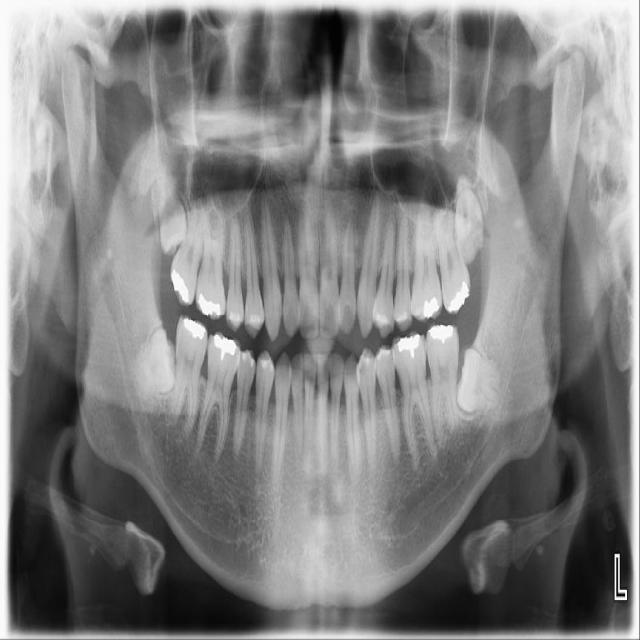3M ESPE Implant: (155, 170, 189, 260)
52: (386, 328, 435, 384), (198, 329, 247, 383), (169, 315, 213, 369), (439, 258, 473, 317), (167, 246, 200, 306), (425, 322, 460, 373), (409, 272, 443, 323), (195, 271, 226, 322), (372, 294, 395, 338), (224, 289, 245, 333), (244, 294, 264, 340), (393, 288, 413, 331), (374, 344, 396, 383), (256, 351, 276, 392), (356, 348, 376, 387), (237, 349, 256, 388)
73: (608, 526, 612, 536)
BioHorizons Implant: (430, 177, 474, 316)
BioLife Implant: (451, 176, 487, 265)
Biomet 3i Implant: (453, 346, 506, 416)
Blue Sky Bio Implant: (424, 323, 461, 445)
Caries: (165, 182, 213, 307)
Implant: (160, 312, 212, 435)
Keystone Dental Implant: (130, 327, 177, 394)
